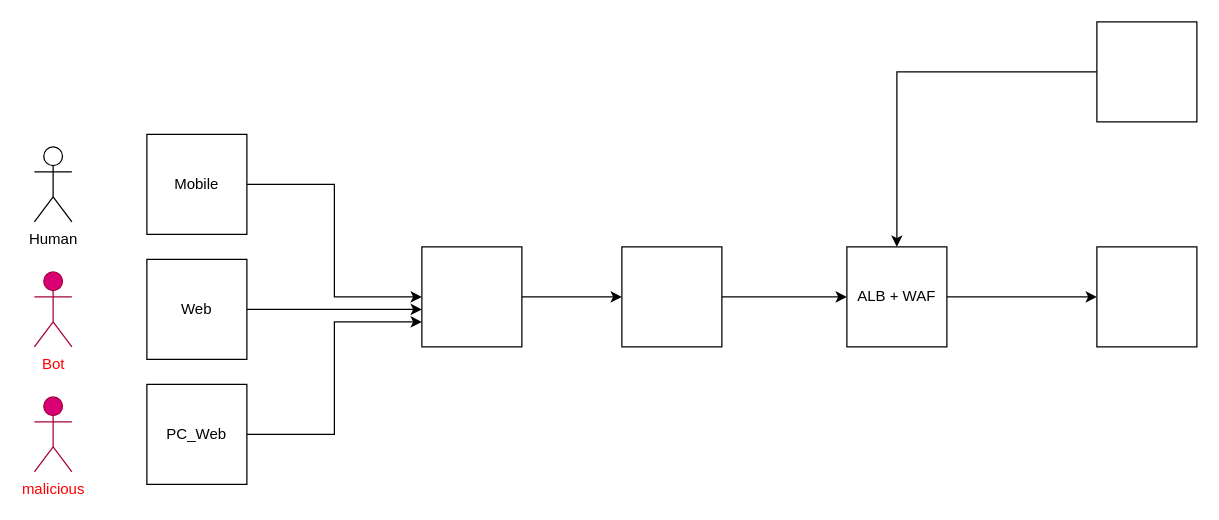
The diagram is 1219 pixels wide and 520 high, and some of its shapes have lost their labels. Each missing label, with the box of its shape:
DNS / DoH: (421, 246, 522, 347)
NLB: (621, 246, 722, 347)
Service: (1096, 246, 1197, 347)
WAF_Portal: (1096, 21, 1197, 122)
